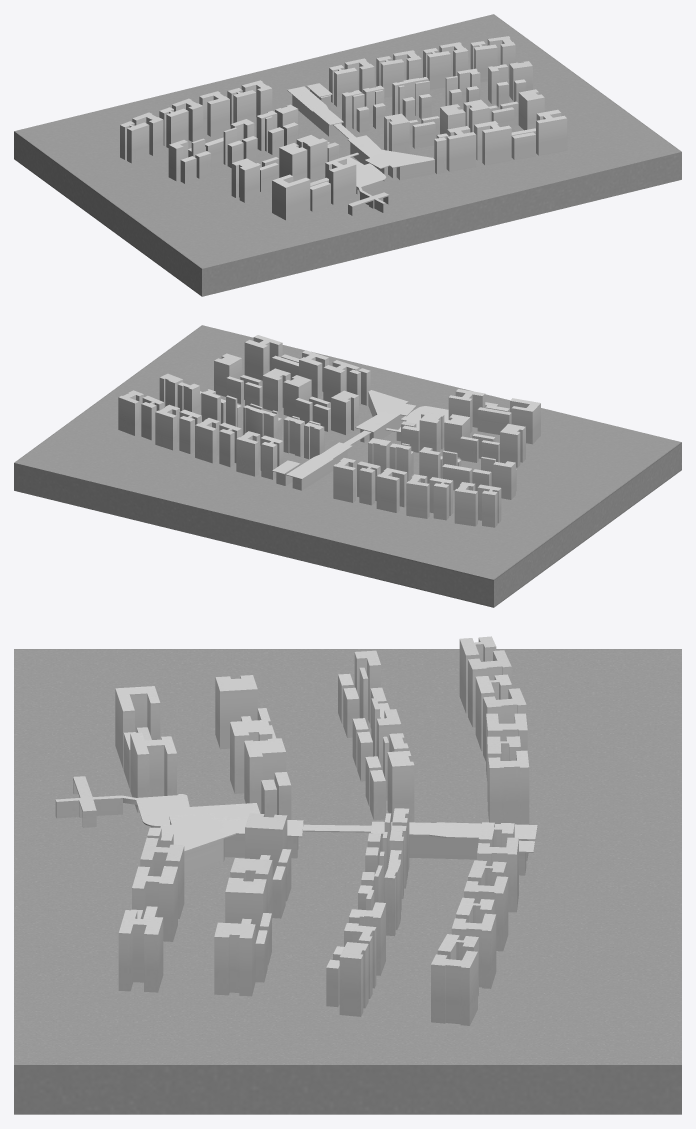
File: environmental0.gltf
The picture shows the model from 3 angles, top to bottom: view 1: azimuth 30°, elevation 25°; view 2: azimuth 150°, elevation 25°; view 3: azimuth 270°, elevation 25°; orthographic projection. The views are drawn at different scales.
Visible parts, largest first — view 1: Cube, Building; view 2: Cube, Building; view 3: Cube, Building.
Part boxes in pixels (left/top/right/bottom): Cube: left=14, top=14, right=681, bottom=296; Building: left=120, top=36, right=567, bottom=220; Cube: left=14, top=325, right=681, bottom=607; Building: left=118, top=335, right=540, bottom=527; Cube: left=14, top=649, right=681, bottom=1114; Building: left=55, top=636, right=537, bottom=1025.
Size of the model in its own units: 1618 by 195 by 1098.
Materials: 2 (2 with a texture image).
